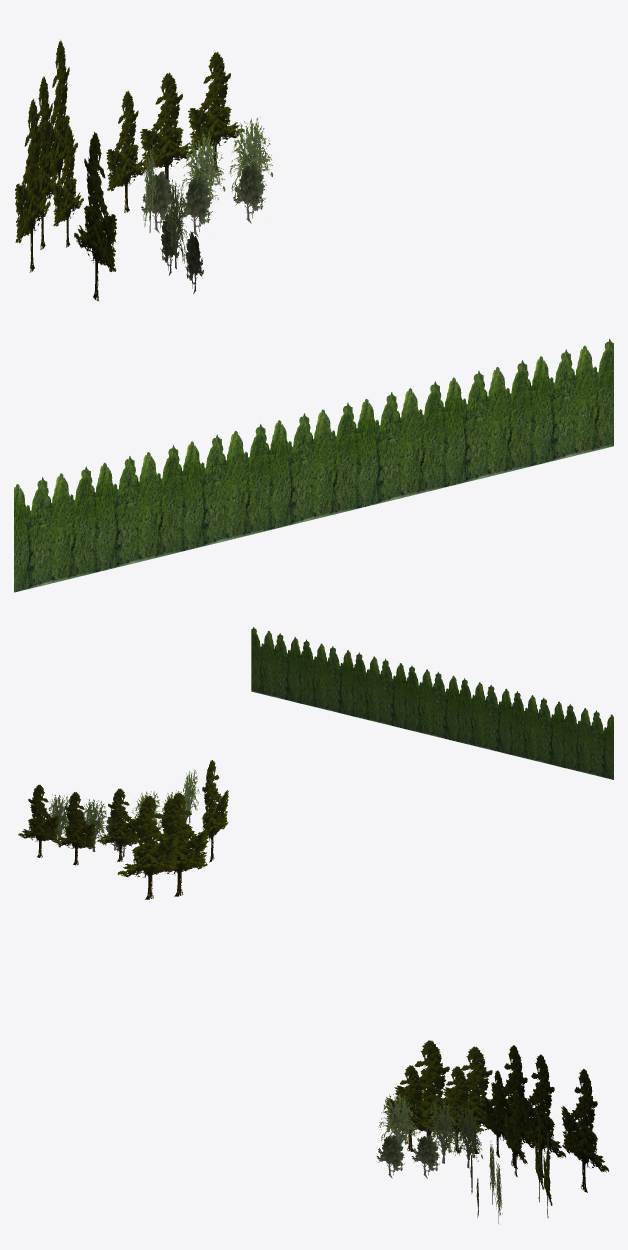
The model's file is trees.obj.
The picture shows the model from 3 angles, top to bottom: view 1: azimuth 30°, elevation 25°; view 2: azimuth 150°, elevation 25°; view 3: azimuth 270°, elevation 25°; orthographic projection. The views are drawn at different scales.
Parts seen in each view (by area): view 1: trees, BgTrees; view 2: trees, BgTrees; view 3: BgTrees.
Part boxes in pixels (x1,y1,x2,y2): trees: (14, 338, 613, 592); BgTrees: (15, 39, 273, 300); trees: (251, 627, 613, 779); BgTrees: (18, 760, 228, 899); BgTrees: (376, 1040, 608, 1224).
Size of the model in its own units: 17.13 by 4.96 by 20.31.
2 materials, 2 textured.
